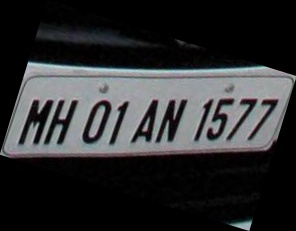character: (17, 97, 56, 145), (42, 97, 79, 146), (225, 95, 259, 141), (154, 98, 187, 144), (246, 97, 280, 141), (81, 98, 112, 145), (129, 97, 159, 144), (205, 95, 235, 142), (108, 99, 132, 144), (192, 97, 213, 141)
